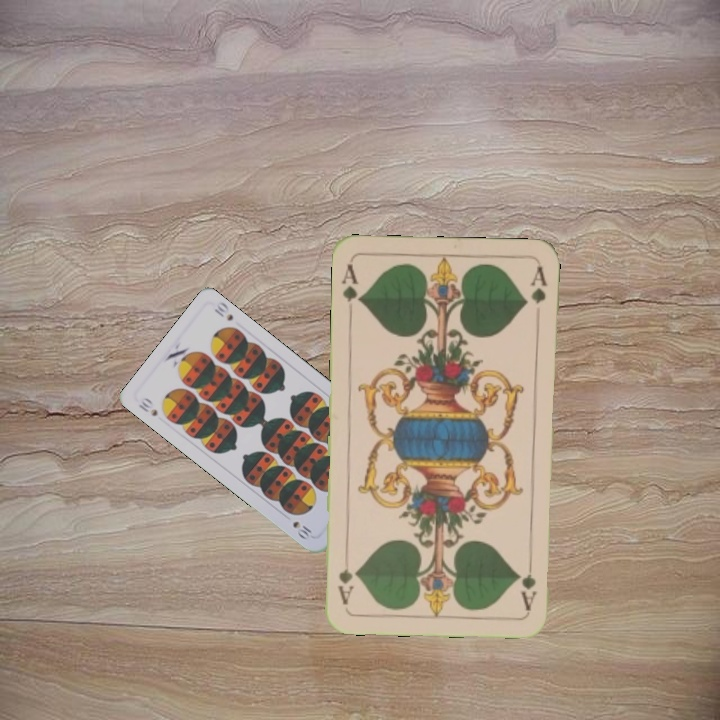GA: (517, 554, 539, 613), (338, 259, 365, 306)
S10: (134, 394, 160, 419)
